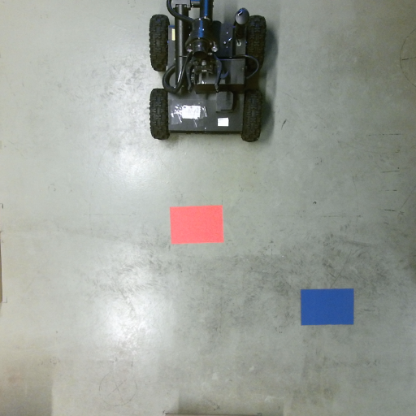Blue: (298, 288, 355, 328)
Jaguar: (147, 0, 266, 146)
Red: (168, 207, 224, 245)
